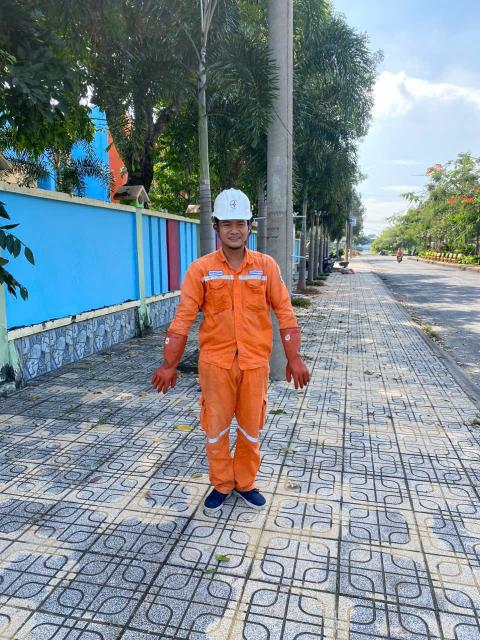gloves: (137, 315, 192, 403), (277, 320, 316, 392)
helmet: (194, 184, 267, 234)
shoes: (237, 476, 273, 512)
